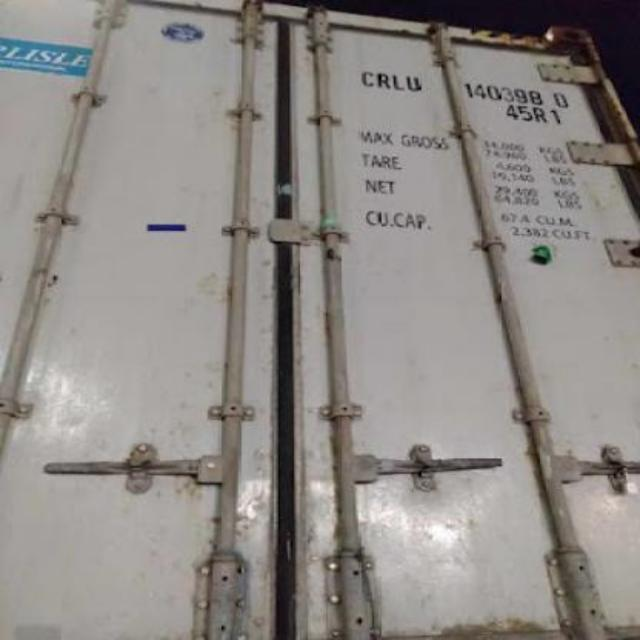0: (486, 84, 502, 102), (553, 91, 569, 109)
1: (462, 81, 474, 97)
3: (502, 86, 514, 104)
4: (474, 83, 488, 99)
8: (528, 89, 544, 105)
9: (514, 88, 528, 104)
C: (360, 69, 376, 87)
L: (392, 72, 406, 91)
R: (376, 72, 392, 90)
U: (404, 74, 422, 95)
